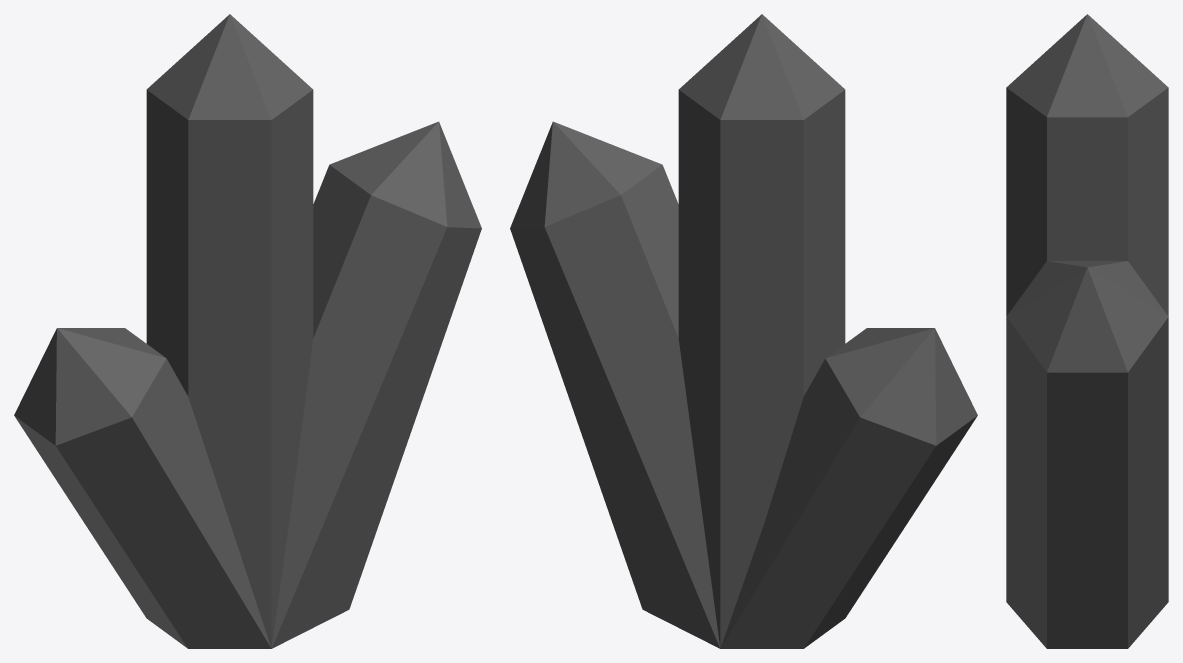
Rendered from gray_cave_crystal.obj.
3 renders of one model, left to right at view 1: azimuth 30°, elevation 25°; view 2: azimuth 150°, elevation 25°; view 3: azimuth 270°, elevation 25°, orthographic. The views are drawn at different scales.
Visible parts, largest first — view 1: main; view 2: main; view 3: main.
Part boxes in pixels (x1,y1,x2,y2): main: (14,14,481,648); main: (510,14,977,648); main: (1006,14,1168,648).
Size of the model in its own units: 0.7381 by 1 by 0.25.
